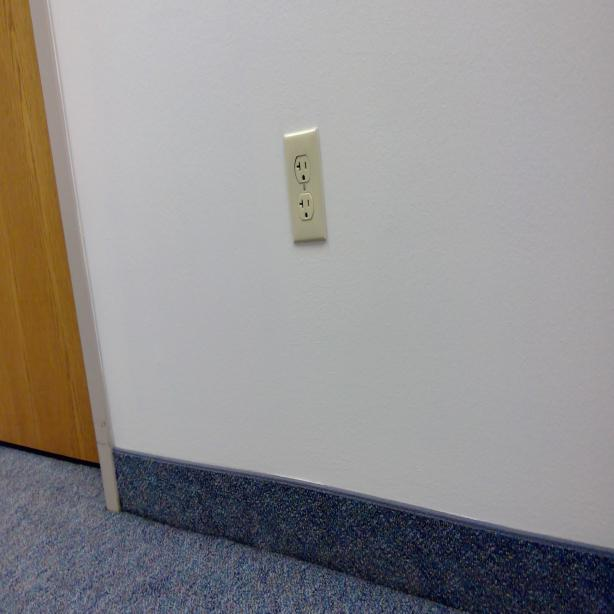typeb: (294, 155, 311, 182), (297, 193, 314, 220)
